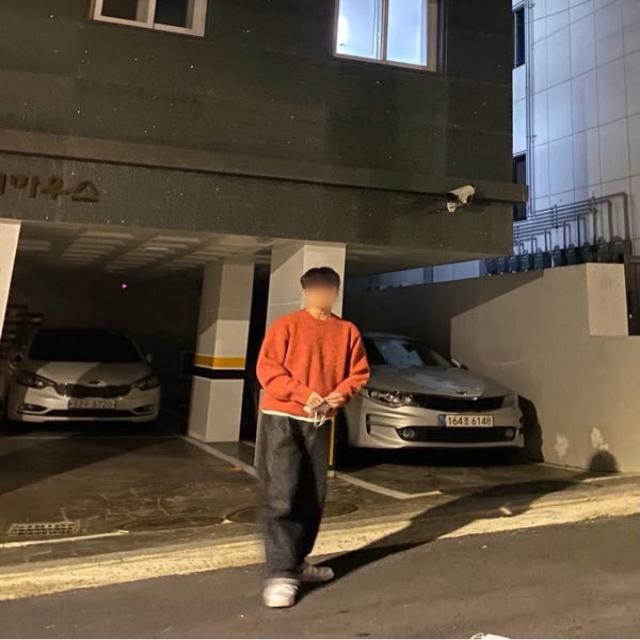denimpants: (258, 406, 336, 576)
sweater: (256, 314, 372, 422)
